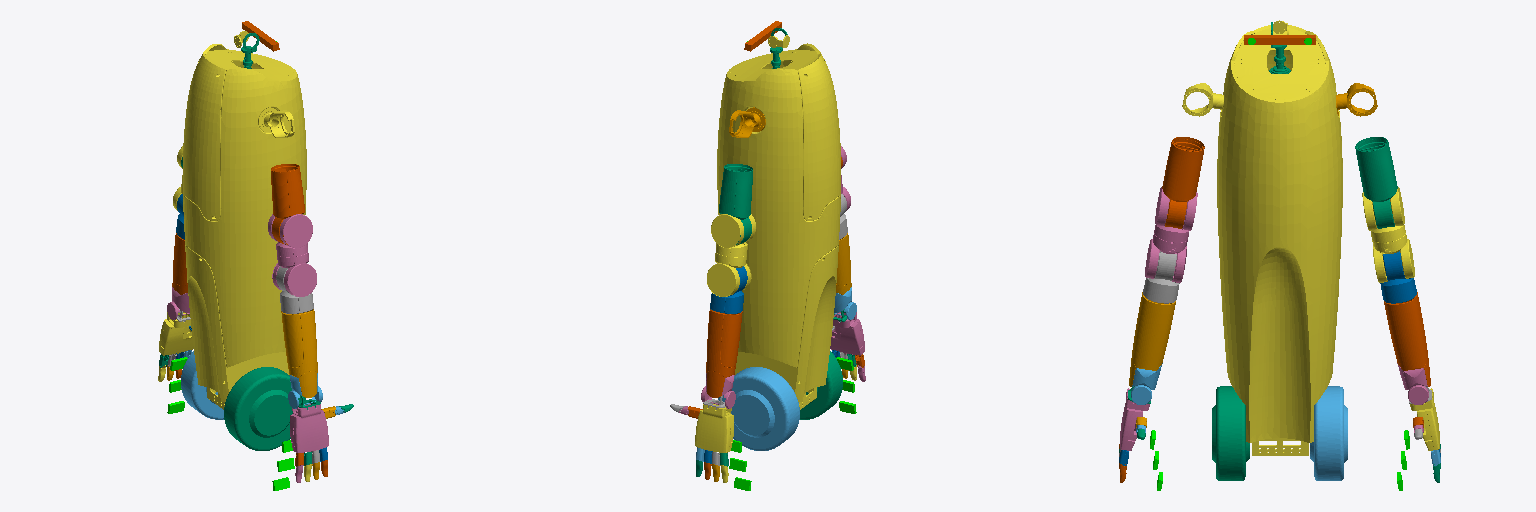
--- Render facts (derived) ---
Views: 3 orthographic renders of the robot side by side, from view 1: azimuth 30°, elevation 25°; view 2: azimuth 150°, elevation 25°; view 3: azimuth 270°, elevation 25°.
Model flintrobot with 76 links and 75 joints (44 revolute, 2 prismatic, 29 fixed), rooted at base_link, posed all joints at 0.
Visible links, largest first — view 1: body_link, wheel_link2, right_elbow, right_forearm, right_posterior_arm, right_hand, wheel_link, left_hand, right_forearm_root, right_shoulder, left_forearm; view 2: body_link, wheel_link, left_elbow, left_forearm, left_posterior_arm, left_hand, wheel_link2, right_hand, left_forearm_root, left_shoulder, right_forearm; view 3: body_link, wheel_link2, wheel_link, right_posterior_arm, left_posterior_arm, right_forearm, left_forearm, right_elbow, left_elbow, right_forearm_root, left_forearm_root, right_hand (+6 smaller).
Boxes of the visible links, left/top/right/bottom form: body_link: left=183, top=44, right=306, bottom=409; wheel_link2: left=224, top=367, right=305, bottom=450; right_elbow: left=268, top=214, right=316, bottom=296; right_forearm: left=281, top=309, right=317, bottom=397; right_posterior_arm: left=271, top=164, right=304, bottom=244; right_hand: left=290, top=404, right=328, bottom=452; wheel_link: left=181, top=351, right=223, bottom=419; left_hand: left=159, top=312, right=193, bottom=355; right_forearm_root: left=276, top=266, right=313, bottom=313; right_shoulder: left=258, top=107, right=294, bottom=137; left_forearm: left=172, top=233, right=187, bottom=294; body_link: left=717, top=43, right=840, bottom=409; wheel_link: left=718, top=367, right=799, bottom=450; left_elbow: left=707, top=214, right=755, bottom=296; left_forearm: left=706, top=309, right=742, bottom=397; left_posterior_arm: left=719, top=164, right=752, bottom=244; left_hand: left=695, top=404, right=733, bottom=452; wheel_link2: left=800, top=351, right=842, bottom=419; right_hand: left=830, top=312, right=864, bottom=355; left_forearm_root: left=710, top=266, right=747, bottom=313; left_shoulder: left=729, top=107, right=765, bottom=137; right_forearm: left=836, top=233, right=851, bottom=294; body_link: left=1217, top=25, right=1342, bottom=455; wheel_link2: left=1212, top=386, right=1249, bottom=480; wheel_link: left=1310, top=386, right=1347, bottom=480; right_posterior_arm: left=1162, top=137, right=1204, bottom=228; left_posterior_arm: left=1355, top=137, right=1397, bottom=228; right_forearm: left=1129, top=292, right=1175, bottom=386; left_forearm: left=1384, top=292, right=1430, bottom=386; right_elbow: left=1145, top=187, right=1197, bottom=282; left_elbow: left=1362, top=187, right=1414, bottom=282; right_forearm_root: left=1143, top=251, right=1179, bottom=303; left_forearm_root: left=1380, top=251, right=1416, bottom=303; right_hand: left=1120, top=388, right=1149, bottom=450.
Size in the robot's own frame: 0.3688 by 0.8082 by 1.31 metres.
46 mesh visuals loaded from 21 distinct referenced files (19 binary STL); not drawn: 3 (reference not matched to a file when rendering).

robot.urdf — flintrobot:
<?xml version="1.0"?>
<robot name="flintrobot"> 
  <link name="base_link">
    <collision>
      <geometry>
        <cylinder length="0.34" radius="0.12"/>
      </geometry>
      <origin rpy="1.57075 0 0" xyz="0 0 0.12"/>
    </collision>
  </link>
  
  <link name="wheel_link">
    <visual>
      <geometry>
        <mesh filename="package://flintrobot_description/meshes/flint_wheel1.stl"/>
      </geometry>
    </visual>
  </link>

  <joint name="wheel1_to_base" type="fixed">
    <axis xyz="0 0 0"/>
    <origin xyz="0 0.171517 0.121921"/>
    <parent link="base_link"/>
    <child link="wheel_link"/>
  </joint>

  <link name="wheel_link2">
    <visual>
      <geometry>
        <mesh filename="package://flintrobot_description/meshes/flint_wheel1.stl"/>
      </geometry>
    </visual>
  </link>

  <joint name="wheel2_to_base" type="fixed">
    <axis xyz="0 0 0"/>
    <origin xyz="0 -0.171517 0.121921" rpy="0 0 3.1416"/>
    <parent link="base_link"/>
    <child link="wheel_link2"/>
  </joint>

  <link name="body_link">
    <visual>
      <geometry>
        <mesh filename="package://flintrobot_description/meshes/flint_body.stl"/>
      </geometry>
    </visual>
    <collision>
      <geometry>
        <cylinder length="0.9" radius="0.15"/>
      </geometry>
      <origin rpy="0 0 0" xyz="0 0 0.5352"/>
    </collision>
  </link>

  <joint name="robot_roll_angle" type="fixed">
    <axis xyz="0 1 0"/>
    <origin xyz="0 0 0.16"/>
    <parent link="base_link"/>
    <child link="body_link"/>
    <limit effort="1000" lower="-0.2618" upper="0.2618" velocity="1.0"/>
  </joint>

  <link name="imu_link">
    <visual>
      <geometry>
        <box size="0.03 0.02 0.002"/>
      </geometry>
      <material name="green">
        <color rgba="0.0 1.0 0.0 1.0"/>
      </material>
    </visual>
  </link>

  <joint name="imu_to_body" type="fixed">
    <axis xyz="0 0 1"/>
    <origin xyz="0 0 0" rpy="0 0 1.5708"/>
    <parent link="body_link"/>
    <child link="imu_link"/>
  </joint>

  <link name="rslidar">
    <visual>
      <geometry>
        <box size="0.02 0.03 0.05"/>
      </geometry>
      <material name="green">
        <color rgba="0.0 1.0 0.0 1.0"/>
      </material>
      <origin rpy="0 0 0" xyz="0 0 0"/>
    </visual>
  </link>

  <joint name="laser_to_body" type="fixed">
    <origin xyz="0.15475 0 0.77"/>
    <parent link="body_link"/>
    <child link="rslidar"/>
  </joint>

  <link name="head_base_root"/>

  <joint name="head_base_root_joint" type="fixed">
    <origin rpy="0 0 0" xyz="0.01385 0 0.9417"/>
    <parent link="body_link"/>
    <child link="head_base_root"/>
  </joint>

  <link name="head_base_raise_joint_x">
    <inertial>
      <mass value="1.0" />
      <inertia ixx="0.5" ixy="0.0" ixz="0.0" iyy="0.5" iyz="0.0" izz="0.5" />
    </inertial>
  </link>

  <joint name="head_base_raise_joint_x" type="prismatic">
    <origin rpy="0 0 0" xyz="0 0 0"/>
    <axis xyz="1 0 0"/>
    <limit effort="1000" lower="0.0" upper="0.07044" velocity="0.1"/>
    <parent link="head_base_root"/>
    <child link="head_base_raise_joint_x"/>
  </joint>

  <link name="head_base_raise_joint_z">
    <inertial>
      <mass value="1.0" />
      <inertia ixx="0.5" ixy="0.0" ixz="0.0" iyy="0.5" iyz="0.0" izz="0.5" />
    </inertial>
  </link>

  <joint name="head_base_raise_joint_z" type="prismatic">
    <origin rpy="0 0 0" xyz="0 0 0"/>
    <axis xyz="0 0 1"/>
    <limit effort="1000" lower="0.0" upper="0.03792" velocity="0.1"/>
    <parent link="head_base_raise_joint_x"/>
    <child link="head_base_raise_joint_z"/>
  </joint>

  <link name="head_base_raise_joint_pitch">
    <visual>
      <geometry>
        <mesh filename="package://flintrobot_description/meshes/flint_neck0.stl"/>
      </geometry>
    </visual>
    <inertial>
      <mass value="1.0" />
      <inertia ixx="0.5" ixy="0.0" ixz="0.0" iyy="0.5" iyz="0.0" izz="0.5" />
    </inertial>
  </link>

  <joint name="head_base_raise_joint_pitch" type="revolute">
    <origin rpy="0 0 0" xyz="0 0 0"/>
    <axis xyz="0 1 0"/>
    <limit effort="1000" lower="0.0" upper="0.449946" velocity="0.1"/>
    <parent link="head_base_raise_joint_z"/>
    <child link="head_base_raise_joint_pitch"/>
  </joint>

  <link name="head_joint_1">
    <visual>
      <geometry>
        <mesh filename="package://flintrobot_description/meshes/flint_neck1.stl"/>
      </geometry>
    </visual>
    <inertial>
      <mass value="1.0" />
      <inertia ixx="0.5" ixy="0.0" ixz="0.0" iyy="0.5" iyz="0.0" izz="0.5" />
    </inertial>
  </link>

  <joint name="head_joint_1" type="revolute">
    <origin rpy="0 0 0" xyz="0 0 0.0553"/>
    <axis xyz="0 0 1"/>
    <limit effort="1000" lower="-0.7854" upper="0.7854" velocity="0.1"/>
    <parent link="head_base_raise_joint_pitch"/>
    <child link="head_joint_1"/>
  </joint>

  <link name="head_joint_2">
    <visual>
      <geometry>
        <mesh filename="package://flintrobot_description/meshes/flint_neck2.stl"/>
      </geometry>
    </visual>
    <inertial>
      <mass value="1.0" />
      <inertia ixx="0.5" ixy="0.0" ixz="0.0" iyy="0.5" iyz="0.0" izz="0.5" />
    </inertial>
  </link>

  <joint name="head_joint_2" type="revolute">
    <origin rpy="0 0 0" xyz="-0.0016 0.018 0.0816"/>
    <axis xyz="0 1 0"/>
    <limit effort="1000" lower="-0.3491" upper="0.7854" velocity="0.1"/>
    <parent link="head_joint_1"/>
    <child link="head_joint_2"/>
  </joint>

  <link name="head">
    <visual>
      <geometry>
        <mesh filename="package://flintrobot_description/meshes/flint_head.stl"/>
      </geometry>
    </visual>
    <inertial>
      <mass value="1.0" />
      <inertia ixx="0.5" ixy="0.0" ixz="0.0" iyy="0.5" iyz="0.0" izz="0.5" />
    </inertial>
  </link>

  <joint name="head_joint_3" type="revolute">
    <origin rpy="0 0 0" xyz="-0.06887 -0.020278 0"/>
    <axis xyz="1 0 0"/>
    <limit effort="1000" lower="-0.3491" upper="0.3491" velocity="0.1"/>
    <parent link="head_joint_2"/>
    <child link="head"/>
  </joint>

  <joint name="head_joint_3b" type="fixed">
    <origin rpy="0 -0.1118756 0" xyz="0.11332 0.002304 0"/>
    <parent link="head"/>
    <child link="camera_base"/>
  </joint>

  <link name="camera_base">
    <visual>
      <geometry>
        <box size="0.02 0.18 0.02"/>
      </geometry>
      <origin rpy="0 0 0" xyz="0 0 0"/>
    </visual>
  </link>

  <link name="left_eye">
    <visual>
      <geometry>
        <cylinder length="0.02" radius="0.01"/>
      </geometry>
      <material name="green">
        <color rgba="0.0 1.0 0.0 1.0"/>
      </material>
      <origin rpy="0 1.5708 0" xyz="0.002 0.0 0.0"/>
    </visual>
  </link>

  <joint name="head_to_left_eye" type="fixed">
    <origin rpy="0 0 0" xyz="0.0 0.07103 0.0"/>
    <parent link="camera_base"/>
    <child link="left_eye"/>
  </joint>

  <link name="left_camera_optical_frame"/>
  <joint name="left_camera_optical_joint" type="fixed">
    <origin rpy="-1.5707963267948966 0.0 -1.5707963267948966" xyz="0 0 0"/>
    <parent link="left_eye"/>
    <child link="left_camera_optical_frame"/>
  </joint>

  <link name="right_eye">
    <visual>
      <geometry>
        <cylinder length="0.02" radius="0.01"/>
      </geometry>
      <material name="green">
        <color rgba="0.0 1.0 0.0 1.0"/>
      </material>
      <origin rpy="0 1.5708 0" xyz="0.002 0.0 0.0"/>
    </visual>
  </link>

  <joint name="head_to_right_eye" type="fixed">
    <origin rpy="0 0 0" xyz="0.0 -0.07103 0.0"/>
    <parent link="camera_base"/>
    <child link="right_eye"/>
  </joint>

  <link name="right_camera_optical_frame"/>
  <joint name="right_camera_optical_joint" type="fixed">
    <origin rpy="-1.5707963267948966 0.0 -1.5707963267948966" xyz="0 0 0"/>
    <parent link="right_eye"/>
    <child link="right_camera_optical_frame"/>
  </joint>

  <link name="right_shoulder_root"/>

  <joint name="right_shoulder_fixed_angle" type="fixed">
    <origin rpy="-0.17453 0 0" xyz="0.005 -0.13909 0.8815"/>
    <parent link="body_link"/>
    <child link="right_shoulder_root"/>
  </joint>

  <link name="right_shoulder">
    <visual>
      <geometry>
        <mesh filename="package://flintrobot_description/meshes/flint_joint1.stl"/>
      </geometry>
    </visual>
    <collision>
      <geometry>
        <cylinder length="0.076" radius="0.035"/>
      </geometry>
      <origin rpy="1.57075 0 0" xyz="0 -0.065 0"/>
    </collision>
  </link>

  <joint name="joint0" type="revolute">
    <axis xyz="0 1 0"/>
    <origin xyz="0 -0.0 0"/>
    <parent link="right_shoulder_root"/>
    <child link="right_shoulder"/>
    <limit effort="1000" lower="-3.1415926" upper="3.1415926" velocity="1.0"/>
  </joint>

  <link name="right_posterior_arm_root">
    <visual>
      <geometry>
        <mesh filename="package://flintrobot_description/meshes/flint_joint2.stl"/>
      </geometry>
    </visual>
    <inertial>
      <mass value="1.0" />
      <inertia ixx="0.5" ixy="0.0" ixz="0.0" iyy="0.5" iyz="0.0" izz="0.5" />
    </inertial>
  </link>

  <joint name="joint1" type="revolute">
    <axis xyz="1 0 0"/>
    <origin xyz="0.000294 -0.069 0"/>
    <parent link="right_shoulder"/>
    <child link="right_posterior_arm_root"/>
    <limit effort="1000" lower="-1.5708" upper="0.1745" velocity="1.0"/>
  </joint>

  <link name="right_posterior_arm">
    <visual>
      <geometry>
        <mesh filename="package://flintrobot_description/meshes/flint_joint3.stl"/>
      </geometry>
    </visual>
    <collision>
      <geometry>
        <cylinder length="0.23" radius="0.035"/>
      </geometry>
      <origin rpy="0 0 0" xyz="0 0 -0.06"/>
    </collision>
  </link>

  <joint name="joint2" type="revolute">
    <axis xyz="0 0 1"/>
    <origin xyz="-0.0001 0 -0.11197"/>
    <parent link="right_posterior_arm_root"/>
    <child link="right_posterior_arm"/>
    <limit effort="1000" lower="-3.1415926" upper="3.1415926" velocity="1.0"/>
  </joint>

  <link name="right_elbow">
    <visual>
      <geometry>
        <mesh filename="package://flintrobot_description/meshes/flint_joint4.stl"/>
      </geometry>
    </visual>
    <collision>
      <geometry>
        <box size="0.07 0.07 0.147"/>
      </geometry>
      <origin rpy="0 0 0" xyz="0 -0.03 -0.0735"/>
    </collision>
  </link>

  <joint name="joint3" type="revolute">
    <axis xyz="0 1 0"/>
    <origin xyz="0 0.02901 -0.198"/>
    <parent link="right_posterior_arm"/>
    <child link="right_elbow"/>
    <limit effort="1000" lower="-1.5708" upper="0.0" velocity="1.0"/>
  </joint>

  <link name="right_forearm_root">
    <visual>
      <geometry>
        <mesh filename="package://flintrobot_description/meshes/flint_joint5.stl"/>
      </geometry>
    </visual>
    <inertial>
      <mass value="1.0" />
      <inertia ixx="0.5" ixy="0.0" ixz="0.0" iyy="0.5" iyz="0.0" izz="0.5" />
    </inertial>
  </link>

  <joint name="joint4" type="revolute">
    <axis xyz="0 1 0"/>
    <origin xyz="0 -0.0555 -0.14721"/>
    <parent link="right_elbow"/>
    <child link="right_forearm_root"/>
    <limit effort="1000" lower="-1.5708" upper="0.0" velocity="1.0"/>
  </joint>

  <link name="right_forearm">
    <visual>
      <geometry>
        <mesh filename="package://flintrobot_description/meshes/flint_joint6.stl"/>
      </geometry>
    </visual>
    <collision>
      <geometry>
        <cylinder length="0.236" radius="0.035"/>
      </geometry>
      <origin rpy="0 0 0" xyz="0 0 -0.033"/>
    </collision>
  </link>

  <joint name="joint5" type="revolute">
    <axis xyz="0 0 1"/>
    <origin xyz="0 0.02768 -0.112"/>
    <parent link="right_forearm_root"/>
    <child link="right_forearm"/>
    <limit effort="1000" lower="-3.1415926" upper="3.1415926" velocity="1.0"/>
  </joint>

  <link name="right_forearm_b">
    <visual>
      <geometry>
        <mesh filename="package://flintrobot_description/meshes/flint_joint7.stl"/>
      </geometry>
    </visual>
    <collision>
      <geometry>
        <box size="0.07 0.07 0.05"/>
      </geometry>
      <origin rpy="0 0 0" xyz="0 0 0.005"/>
    </collision>
  </link>

  <joint name="joint6" type="revolute">
    <axis xyz="0 1 0"/>
    <origin xyz="0 0 -0.20252"/>
    <parent link="right_forearm"/>
    <child link="right_forearm_b"/>
    <limit effort="1000" lower="-0.5236" upper="0.5236" velocity="1.0"/>
  </joint>

  <link name="right_wrist">
    <visual>
      <geometry>
        <mesh filename="package://flintrobot_description/meshes/flint_joint8.stl"/>
      </geometry>
    </visual>
    <collision>
      <geometry>
        <box size="0.09 0.06 0.023"/>
      </geometry>
      <origin rpy="0 0 0" xyz="0.014 0 -0.0"/>
    </collision>
  </link>

  <joint name="joint7" type="revolute">
    <axis xyz="1 0 0"/>
    <origin xyz="-0.014 0 -0.04456"/>
    <parent link="right_forearm_b"/>
    <child link="right_wrist"/>
    <limit effort="1000" lower="-0.7854" upper="0.7854" velocity="1.0"/>
  </joint>

  <link name="right_grasp_center">
    <visual>
      <geometry>
        <box size="0.03 0.01 0.05"/>
      </geometry>
      <material name="green">
        <color rgba="0.0 1.0 0.0 1.0"/>
      </material>
      <origin rpy="0 0 0" xyz="0 0 0"/>
    </visual>
  </link>

  <joint name="right_wrists_to_grasp_center" type="fixed">
    <parent link="right_wrist"/>
    <child link="right_grasp_center"/>
    <origin rpy="0 1.5708 0" xyz="-0.02 0.055 -0.15"/>
  </joint>

  <link name="right_grasp_prepare_2">
    <visual>
      <geometry>
        <box size="0.03 0.01 0.05"/>
      </geometry>
      <material name="green">
        <color rgba="0.0 1.0 0.0 1.0"/>
      </material>
      <origin rpy="0 0 0" xyz="0 0 0"/>
    </visual>
  </link>

  <joint name="right_grasp_center_to_grasp_prepare_2" type="fixed">
    <parent link="right_grasp_center"/>
    <child link="right_grasp_prepare_2"/>
    <origin rpy="0 0 0" xyz="0.06 0.02 -0.01"/>
  </joint>

  <link name="right_grasp_prepare">
    <visual>
      <geometry>
        <box size="0.03 0.01 0.05"/>
      </geometry>
      <material name="green">
        <color rgba="0.0 1.0 0.0 1.0"/>
      </material>
      <origin rpy="0 0 0" xyz="0 0 0"/>
    </visual>
  </link>

  <joint name="right_grasp_center_to_grasp_prepare" type="fixed">
    <parent link="right_grasp_center"/>
    <child link="right_grasp_prepare"/>
    <origin rpy="0 0 0" xyz="0.12 0.04 -0.02"/>
  </joint>

  <link name="right_hand">
    <visual>
      <geometry>
        <mesh filename="package://flintrobot_description/meshes/flint_good_hand.stl"/>
      </geometry>
    </visual>
    <collision>
      <geometry>
        <box size="0.1 0.04 0.1"/>
      </geometry>
      <origin rpy="0 0 0" xyz="0 0 0.0"/>
    </collision>
  </link>

  <joint name="wrist_to_hand" type="fixed">
    <parent link="right_wrist"/>
    <child link="right_hand"/>
    <origin rpy="0 0 0" xyz="0.010324 -0.01302 -0.09651"/>
  </joint>

  <link name="right_hand_thumb_0">
    <visual>
      <geometry>
        <mesh filename="package://flintrobot_description/meshes/flint_hand_thumb_joint0.stl"/>
      </geometry>
    </visual>
    <inertial>
      <mass value="0.5" />
      <inertia ixx="0.5" ixy="0.0" ixz="0.0" iyy="0.5" iyz="0.0" izz="0.5" />
    </inertial>
  </link>

  <joint name="right_thumb_joint1" type="revolute">
    <parent link="right_wrist"/>
    <child link="right_hand_thumb_0"/>
    <axis xyz="0 0 1"/>
    <origin xyz="0.0408 0.01039 -0.0694"/>
    <limit effort="1000" lower="0" upper="2.0944" velocity="1.0"/>
  </joint>

  <link name="right_hand_thumb_1">
    <visual>
      <geometry>
        <mesh filename="package://flintrobot_description/meshes/flint_hand_thumb_joint1.stl"/>
      </geometry>
    </visual>
    <collision>
      <geometry>
        <box size="0.03 0.025 0.025"/>
      </geometry>
      <origin rpy="0 -0.0 0" xyz="0.03 0.013 -0.0"/>
    </collision>
    <inertial>
      <mass value="0.5" />
      <inertia ixx="0.5" ixy="0.0" ixz="0.0" iyy="0.5" iyz="0.0" izz="0.5" />
    </inertial>
  </link>

  <joint name="right_thumb_joint2" type="revolute">
    <parent link="right_hand_thumb_0"/>
    <child link="right_hand_thumb_1"/>
    <axis xyz="0 1 0"/>
    <origin xyz="0.010277 -0.01169 0.00121"/>
    <limit effort="1000" lower="0" upper="1.5708" velocity="1.0"/>
  </joint>

  <link name="right_hand_thumb_2">
    <visual>
      <geometry>
        <mesh filename="package://flintrobot_description/meshes/flint_hand_thumb_joint2.stl"/>
      </geometry>
    </visual>
    <collision>
      <geometry>
        <box size="0.02 0.02 0.02"/>
      </geometry>
      <origin rpy="0 0 0" xyz="0.008 0.01 0.003"/>
    </collision>
    <inertial>
      <mass value="0.5" />
      <inertia ixx="0.5" ixy="0.0" ixz="0.0" iyy="0.5" iyz="0.0" izz="0.5" />
    </inertial>
  </link>

  <joint name="right_thumb_joint3" type="revolute">
    <parent link="right_hand_thumb_1"/>
    <child link="right_hand_thumb_2"/>
    <axis xyz="0 1 0"/>
    <origin xyz="0.061119 0.002 -0.00337"/>
    <limit effort="1000" lower="0" upper="1.5708" velocity="1.0"/>
  </joint>

  <link name="right_hand_thumb_3">
    <visual>
      <geometry>
        <mesh filename="package://flintrobot_description/meshes/flint_hand_thumb_joint3.stl"/>
      </geometry>
    </visual>
    <collision>
      <geometry>
        <box size="0.02 0.02 0.01"/>
      </geometry>
      <origin rpy="0 0 0" xyz="0.025 0 0.008"/>
    </collision>
  </link>

  <joint name="right_thumb_joint4" type="revolute">
    <parent link="right_hand_thumb_2"/>
    <child link="right_hand_thumb_3"/>
    <axis xyz="0 1 0"/>
    <origin xyz="0.02197 0.01078 0.00108"/>
    <limit effort="1000" lower="0" upper="0.7854" velocity="1.0"/>
  </joint>

  <link name="right_finger1_root">
  </link>

  <joint name="wrists_to_finger1" type="fixed">
    <parent link="right_wrist"/>
    <child link="right_finger1_root"/>
    <origin rpy="0 -0.05236 0" xyz="0.047592 -0.01235 -0.164243"/>
  </joint>

  <link name="right_finger1_joint1">
    <visual>
      <geometry>
        <mesh filename="package://flintrobot_description/meshes/flint_hand_finger_joint0.stl"/>
      </geometry>
    </visual>
    <collision>
      <geometry>
        <box size="0.02 0.02 0.035"/>
      </geometry>
      <origin rpy="0 0 0" xyz="0 0 -0.012"/>
    </collision>
  </link>

  <joint name="right_finger1_joint1" type="revolute">
    <axis xyz="1 0 0"/>
    <parent link="right_finger1_root"/>
    <child link="right_finger1_joint1"/>
    <origin rpy="0 0 0" xyz="0 0 0"/>
    <limit effort="1000" lower="0" upper="1.5708" velocity="1.0"/>
  </joint>

  <link name="right_finger1_joint2">
    <visual>
      <geometry>
        <mesh filename="package://flintrobot_description/meshes/flint_hand_finger_joint1.stl"/>
      </geometry>
    </visual>
    <collision>
      <geometry>
        <box size="0.02 0.02 0.035"/>
      </geometry>
      <origin rpy="0 0 0" xyz="0 0 -0.032"/>
    </collision>
  </link>

  <joint name="right_finger1_joint2" type="revolute">
    <axis xyz="1 0 0"/>
    <parent link="right_finger1_joint1"/>
    <child link="right_finger1_joint2"/>
    <origin rpy="0 0 0" xyz="0.000017 0.0052 -0.030544"/>
    <limit effort="1000" lower="0" upper="1.5708" velocity="1.0"/>
  </joint>

  <link name="right_finger2_root">
  </link>

  <joint name="wrists_to_finger2" type="fixed">
    <parent link="right_wrist"/>
    <child link="right_finger2_root"/>
    <origin rpy="0 0 0" xyz="0.021945 -0.01231 -0.165475"/>
  </joint>

  <link name="right_finger2_joint1">
    <visual>
      <geometry>
        <mesh filename="package://flintrobot_description/meshes/flint_hand_finger_joint0.stl"/>
      </geometry>
    </visual>
    <collision>
      <geometry>
        <box size="0.02 0.02 0.035"/>
      </geometry>
      <origin rpy="0 0 0" xyz="0 0 -0.012"/>
    </collision>
  </link>

  <joint name="right_finger2_joint1" type="revolute">
    <axis xyz="1 0 0"/>
    <parent link="right_finger2_root"/>
    <child link="right_finger2_joint1"/>
    <origin rpy="0 0 0" xyz="0 0 0"/>
    <limit effort="1000" lower="0" upper="1.5708" velocity="1.0"/>
  </joint>

  <link name="right_finger2_joint2">
    <visual>
      <geometry>
        <mesh filename="package://flintrobot_description/meshes/flint_hand_finger_joint1.stl"/>
      </geometry>
    </visual>
    <collision>
      <geometry>
        <box size="0.02 0.02 0.035"/>
      </geometry>
      <origin rpy="0 0 0" xyz="0 0 -0.032"/>
    </collision>
  </link>

  <joint name="right_finger2_joint2" type="revolute">
    <axis xyz="1 0 0"/>
    <parent link="right_finger2_joint1"/>
    <child link="right_finger2_joint2"/>
    <origin rpy="0 0 0" xyz="0.000017 0.0052 -0.030544"/>
    <limit effort="1000" lower="0" upper="1.5708" velocity="1.0"/>
  </joint>

  <link name="right_finger3_root">
  </link>

  <joint name="wrists_to_finger3" type="fixed">
    <parent link="right_wrist"/>
    <child link="right_finger3_root"/>
    <origin rpy="0 0.05236 0" xyz="-0.003263 -0.01231 -0.165415"/>
  </joint>

  <link name="right_finger3_joint1">
    <visual>
      <geometry>
        <mesh filename="package://flintrobot_description/meshes/flint_hand_finger_joint0.stl"/>
      </geometry>
    </visual>
    <collision>
      <geometry>
        <box size="0.02 0.02 0.035"/>
      </geometry>
      <origin rpy="0 0 0" xyz="0 0 -0.012"/>
    </collision>
  </link>

  <joint name="right_finger3_joint1" type="revolute">
    <axis xyz="1 0 0"/>
    <parent link="right_finger3_root"/>
    <child link="right_finger3_joint1"/>
    <origin rpy="0 0 0" xyz="0 0 0"/>
    <limit effort="1000" lower="0" upper="1.5708" velocity="1.0"/>
  </joint>

  <link name="right_finger3_joint2">
    <visual>
      <geometry>
        <mesh filename="package://flintrobot_description/meshes/flint_hand_finger_joint1.stl"/>
      </geometry>
    </visual>
    <collision>
      <geometry>
        <box size="0.02 0.02 0.035"/>
      </geometry>
      <origin rpy="0 0 0" xyz="0 0 -0.032"/>
    </collision>
  </link>

  <joint name="right_finger3_joint2" type="revolute">
    <axis xyz="1 0 0"/>
    <parent link="right_finger3_joint1"/>
    <child link="right_finger3_joint2"/>
    <origin rpy="0 0 0" xyz="0.000017 0.0052 -0.030544"/>
    <limit effort="1000" lower="0" upper="1.5708" velocity="1.0"/>
  </joint>

  <link name="right_finger4_root">
  </link>

  <joint name="wrists_to_finger4" type="fixed">
    <parent link="right_wrist"/>
    <child link="right_finger4_root"/>
    <origin rpy="0 0.10472 0" xyz="-0.028492 -0.01231 -0.162315"/>
  </joint>

  <link name="right_finger4_joint1">
    <visual>
      <geometry>
        <mesh filename="package://flintrobot_description/meshes/flint_hand_finger_joint0.stl"/>
      </geometry>
    </visual>
    <collision>
      <geometry>
        <box size="0.02 0.02 0.035"/>
      </geometry>
      <origin rpy="0 0 0" xyz="0 0 -0.012"/>
    </collision>
  </link>

  <joint name="right_finger4_joint1" type="revolute">
    <axis xyz="1 0 0"/>
    <parent link="right_finger4_root"/>
    <child link="right_finger4_joint1"/>
    <origin rpy="0 0 0" xyz="0 0 0"/>
    <limit effort="1000" lower="0" upper="1.5708" velocity="1.0"/>
  </joint>

  <link name="right_finger4_joint2">
    <visual>
      <geometry>
        <mesh filename="package://flintrobot_description/meshes/flint_hand_finger_joint1.stl"/>
      </geometry>
    </visual>
    <collision>
      <geometry>
        <box size="0.02 0.02 0.035"/>
      </geometry>
      <origin rpy="0 0 0" xyz="0 0 -0.032"/>
    </collision>
  </link>

  <joint name="right_finger4_joint2" type="revolute">
    <axis xyz="1 0 0"/>
    <parent link="right_finger4_joint1"/>
    <child link="right_finger4_joint2"/>
    <origin rpy="0 0 0" xyz="0.000017 0.0052 -0.030544"/>
    <limit effort="1000" lower="0" upper="1.5708" velocity="1.0"/>
  </joint>

  <link name="left_shoulder_root"/>

  <joint name="left_shoulder_fixed_angle" type="fixed">
    <origin rpy="0.17453 0 0" xyz="0.005 0.13909 0.8815"/>
    <parent link="body_link"/>
    <child link="left_shoulder_root"/>
  </joint>

  <link name="left_shoulder">
    <visual>
      <geometry>
        <mesh filename="package://flintrobot_description/meshes/flint_joint1.stl" scale="1 -1 1"/>
      </geometry>
    </visual>
    <collision>
      <geometry>
        <cylinder length="0.076" radius="0.035"/>
      </geometry>
      <origin rpy="1.57075 0 0" xyz="0 0.065 0"/>
    </collision>
  </link>

  <joint name="joint0b" type="revolute">
    <axis xyz="0 1 0"/>
    <origin xyz="0 0 0"/>
    <parent link="left_shoulder_root"/>
    <child link="left_shoulder"/>
    <limit effort="1000" lower="-3.1415926" upper="3.1415926" velocity="1.0"/>
  </joint>

  <link name="left_posterior_arm_root">
    <visual>
      <geometry>
        <mesh filename="package://flintrobot_description/meshes/flint_joint2.stl" scale="1 -1 1"/>
      </geometry>
    </visual>
    <inertial>
      <mass value="1.0" />
      <inertia ixx="0.5" ixy="0.0" ixz="0.0" iyy="0.5" iyz="0.0" izz="0.5" />
    </inertial>
  </link>

  <joint name="joint1b" type="revolute">
    <axis xyz="1 0 0"/>
    <origin xyz="0.000294 0.069 0"/>
    <parent link="left_shoulder"/>
    <child link="left_posterior_arm_root"/>
    <limit effort="1000" lower="-0.1745" upper="1.5708" velocity="1.0"/>
  </joint>

  <link name="left_posterior_arm">
    <visual>
      <geometry>
        <mesh filename="package://flintrobot_description/meshes/flint_joint3.stl" scale="1 -1 1"/>
      </geometry>
    </visual>
    <collision>
      <geometry>
        <cylinder length="0.23" radius="0.035"/>
      </geometry>
      <origin rpy="0 0 0" xyz="0 0 -0.06"/>
    </collision>
  </link>

  <joint name="joint2b" type="revolute">
    <axis xyz="0 0 1"/>
    <origin xyz="-0.0001 0 -0.11197"/>
    <parent link="left_posterior_arm_root"/>
    <child link="left_posterior_arm"/>
    <limit effort="1000" lower="-3.1415926" upper="3.1415926" velocity="1.0"/>
  </joint>

  <link name="left_elbow">
    <visual>
      <geometry>
        <mesh filename="package://flintrobot_description/meshes/flint_joint4.stl" scale="1 -1 1"/>
      </geometry>
    </visual>
    <collision>
      <geometry>
        <box size="0.07 0.07 0.147"/>
      </geometry>
      <origin rpy="0 0 0" xyz="0 0.03 -0.0735"/>
    </collision>
  </link>

  <joint name="joint3b" type="revolute">
    <axis xyz="0 1 0"/>
    <origin xyz="0 -0.02901 -0.198"/>
    <parent link="left_posterior_arm"/>
    <child link="left_elbow"/>
    <limit effort="1000" lower="-1.5708" upper="0.0" velocity="1.0"/>
  </joint>

  <link name="left_forearm_root">
    <visual>
      <geometry>
        <mesh filename="package://flintrobot_description/meshes/flint_joint5.stl" scale="1 -1 1"/>
      </geometry>
    </visual>
    <inertial>
      <mass value="1.0" />
      <inertia ixx="0.5" ixy="0.0" ixz="0.0" iyy="0.5" iyz="0.0" izz="0.5" />
    </inertial>
  </link>

  <joint name="joint4b" type="revolute">
    <axis xyz="0 1 0"/>
    <origin xyz="0 0.0555 -0.14721"/>
    <parent link="left_elbow"/>
    <child link="left_forearm_root"/>
    <limit effort="1000" lower="-1.5708" upper="0.0" velocity="1.0"/>
  </joint>

  <link name="left_forearm">
    <visual>
      <geometry>
        <mesh filename="package://flintrobot_description/meshes/flint_joint6.stl" scale="1 -1 1"/>
      </geometry>
    </visual>
    <collision>
      <geometry>
        <cylinder length="0.236" radius="0.035"/>
      </geometry>
      <origin rpy="0 0 0" xyz="0 0 -0.033"/>
    </collision>
  </link>

  <joint name="joint5b" type="revolute">
    <axis xyz="0 0 1"/>
    <origin xyz="0 -0.02768 -0.112"/>
    <parent link="left_forearm_root"/>
    <child link="left_forearm"/>
    <limit effort="1000" lower="-3.1415926" upper="3.1415926" velocity="1.0"/>
  </joint>

  <link name="left_forearm_b">
    <visual>
      <geometry>
        <mesh filename="package://flintrobot_description/meshes/flint_joint7.stl" scale="1 -1 1"/>
      </geometry>
    </visual>
    <collision>
      <geometry>
        <box size="0.07 0.07 0.05"/>
      </geometry>
      <origin rpy="0 0 0" xyz="0 0 0.005"/>
    </collision>
  </link>

  <joint name="joint6b" type="revolute">
    <axis xyz="0 1 0"/>
    <origin xyz="0 0 -0.20252"/>
    <parent link="left_forearm"/>
    <child link="left_forearm_b"/>
    <limit effort="1000" lower="-0.5236" upper="0.5236" velocity="1.0"/>
  </joint>

  <link name="left_wrist">
    <visual>
      <geometry>
        <mesh filename="package://flintrobot_description/meshes/flint_joint8.stl" scale="1 -1 1"/>
      </geometry>
    </visual>
    <collision>
      <geometry>
        <box size="0.09 0.06 0.023"/>
      </geometry>
      <origin rpy="0 0 0" xyz="0.014 0 -0.0"/>
    </collision>
  </link>

  <joint name="joint7b" type="revolute">
    <axis xyz="1 0 0"/>
    <origin xyz="-0.014 0 -0.04456"/>
    <parent link="left_forearm_b"/>
    <child link="left_wrist"/>
    <limit effort="1000" lower="-0.7854" upper="0.7854" velocity="1.0"/>
  </joint>

  <link name="left_grasp_center">
    <visual>
      <geometry>
        <box size="0.03 0.01 0.05"/>
      </geometry>
      <material name="green">
        <color rgba="0.0 1.0 0.0 1.0"/>
      </material>
      <origin rpy="0 0 0" xyz="0 0 0"/>
    </visual>
  </link>

  <joint name="left_wrists_to_grasp_center" type="fixed">
    <parent link="left_wrist"/>
    <child link="left_grasp_center"/>
    <origin rpy="0 1.5708 0" xyz="-0.02 -0.055 -0.15"/>
  </joint>

  <link name="left_grasp_prepare_2">
    <visual>
      <geometry>
        <box size="0.03 0.01 0.05"/>
      </geometry>
      <material name="green">
        <color rgba="0.0 1.0 0.0 1.0"/>
      </material>
      <origin rpy="0 0 0" xyz="0 0 0"/>
    </visual>
  </link>

  <joint name="left_grasp_center_to_grasp_prepare_2" type="fixed">
    <parent link="left_grasp_center"/>
    <child link="left_grasp_prepare_2"/>
    <origin rpy="0 0 0" xyz="0.06 -0.02 -0.01"/>
  </joint>

  <link name="left_grasp_prepare">
    <visual>
      <geometry>
        <box size="0.03 0.01 0.05"/>
      </geometry>
      <material name="green">
        <color rgba="0.0 1.0 0.0 1.0"/>
      </material>
      <origin rpy="0 0 0" xyz="0 0 0"/>
    </visual>
  </link>

  <joint name="left_grasp_center_to_grasp_prepare" type="fixed">
    <parent link="left_grasp_center"/>
    <child link="left_grasp_prepare"/>
    <origin rpy="0 0 0" xyz="0.12 -0.04 -0.02"/>
  </joint>

  <link name="left_hand">
    <visual>
      <geometry>
        <mesh filename="package://flintrobot_description/meshes/flint_good_hand.stl" scale="1 -1 1"/>
      </geometry>
    </visual>
    <collision>
      <geometry>
        <box size="0.1 0.04 0.1"/>
      </geometry>
      <origin rpy="0 0 0" xyz="0 0 0.0"/>
    </collision>
  </link>

  <joint name="wrist_to_hand2" type="fixed">
    <parent link="left_wrist"/>
    <child link="left_hand"/>
    <origin rpy="0 0 0" xyz="0.010324 0.01302 -0.09651"/>
  </joint>

  <link name="left_hand_thumb_0">
    <visual>
      <geometry>
        <mesh filename="package://flintrobot_description/meshes/flint_hand_thumb_joint0.stl" scale="1 -1 1"/>
      </geometry>
    </visual>
    <inertial>
      <mass value="0.5" />
      <inertia ixx="0.5" ixy="0.0" ixz="0.0" iyy="0.5" iyz="0.0" izz="0.5" />
    </inertial>
  </link>

  <joint name="left_thumb_joint1" type="revolute">
    <parent link="left_wrist"/>
    <child link="left_hand_thumb_0"/>
    <axis xyz="0 0 1"/>
    <origin xyz="0.0408 -0.01039 -0.0694"/>
    <limit effort="1000" lower="-2.0944" upper="0" velocity="1.0"/>
  </joint>

  <link name="left_hand_thumb_1">
    <visual>
      <geometry>
        <mesh filename="package://flintrobot_description/meshes/flint_hand_thumb_joint1.stl" scale="1 -1 1"/>
      </geometry>
    </visual>
    <collision>
      <geometry>
        <box size="0.03 0.025 0.025"/>
      </geometry>
      <origin rpy="0 -0.0 0" xyz="0.03 -0.013 -0.0"/>
    </collision>
    <inertial>
      <mass value="0.5" />
      <inertia ixx="0.5" ixy="0.0" ixz="0.0" iyy="0.5" iyz="0.0" izz="0.5" />
    </inertial>
  </link>

  <joint name="left_thumb_joint2" type="revolute">
    <parent link="left_hand_thumb_0"/>
    <child link="left_hand_thumb_1"/>
    <axis xyz="0 1 0"/>
    <origin xyz="0.010277 0.01169 0.00121"/>
    <limit effort="1000" lower="0" upper="1.5708" velocity="1.0"/>
  </joint>

  <link name="left_hand_thumb_2">
    <visual>
      <geometry>
        <mesh filename="package://flintrobot_description/meshes/flint_hand_thumb_joint2.stl" scale="1 -1 1"/>
      </geometry>
    </visual>
    <collision>
      <geometry>
        <box size="0.02 0.02 0.02"/>
      </geometry>
      <origin rpy="0 0 0" xyz="0.008 -0.01 0.003"/>
    </collision>
  </link>

  <joint name="left_thumb_joint3" type="revolute">
    <parent link="left_hand_thumb_1"/>
    <child link="left_hand_thumb_2"/>
    <axis xyz="0 1 0"/>
    <origin xyz="0.061119 -0.002 -0.00337"/>
    <limit effort="1000" lower="0" upper="1.5708" velocity="1.0"/>
  </joint>

  <link name="left_hand_thumb_3">
    <visual>
      <geometry>
        <mesh filename="package://flintrobot_description/meshes/flint_hand_thumb_joint3.stl" scale="1 -1 1"/>
      </geometry>
    </visual>
    <collision>
      <geometry>
        <box size="0.02 0.02 0.01"/>
      </geometry>
      <origin rpy="0 0 0" xyz="0.025 0 0.008"/>
    </collision>
  </link>

  <joint name="left_thumb_joint4" type="revolute">
    <parent link="left_hand_thumb_2"/>
    <child link="left_hand_thumb_3"/>
    <axis xyz="0 1 0"/>
    <origin xyz="0.02197 -0.01078 0.00108"/>
    <limit effort="1000" lower="0.0" upper="0.7854" velocity="1.0"/>
  </joint>

  <link name="left_finger1_root">
  </link>

  <joint name="left_wrist_to_finger1" type="fixed">
    <parent link="left_wrist"/>
    <child link="left_finger1_root"/>
    <origin rpy="0 -0.05236 0" xyz="0.047592 0.01235 -0.164243"/>
  </joint>

  <link name="left_finger1_joint1">
    <visual>
      <geometry>
        <mesh filename="package://flintrobot_description/meshes/flint_hand_finger_joint0.stl" scale="1 -1 1"/>
      </geometry>
    </visual>
    <collision>
      <geometry>
        <box size="0.02 0.02 0.035"/>
      </geometry>
      <origin rpy="0 0 0" xyz="0 0 -0.012"/>
    </collision>
  </link>

  <joint name="left_finger1_joint1" type="revolute">
    <axis xyz="1 0 0"/>
    <parent link="left_finger1_root"/>
    <child link="left_finger1_joint1"/>
    <origin rpy="0 0 0" xyz="0 0 0"/>
    <limit effort="1000" lower="-1.5708" upper="0.0" velocity="1.0"/>
  </joint>

  <link name="left_finger1_joint2">
    <visual>
      <geometry>
        <mesh filename="package://flintrobot_description/meshes/flint_hand_finger_joint1.stl" scale="1 -1 1"/>
      </geometry>
    </visual>
    <collision>
      <geometry>
        <box size="0.02 0.02 0.035"/>
      </geometry>
      <origin rpy="0 0 0" xyz="0 0 -0.032"/>
    </collision>
  </link>

  <joint name="left_finger1_joint2" type="revolute">
    <axis xyz="1 0 0"/>
    <parent link="left_finger1_joint1"/>
    <child link="left_finger1_joint2"/>
    <origin rpy="0 0 0" xyz="0.000017 -0.0052 -0.030544"/>
    <limit effort="1000" lower="-1.5708" upper="0.0" velocity="1.0"/>
  </joint>

  <link name="left_finger2_root">
  </link>

  <joint name="left_wrists_to_finger2" type="fixed">
    <parent link="left_wrist"/>
    <child link="left_finger2_root"/>
    <origin rpy="0 0 0" xyz="0.021945 0.01231 -0.165475"/>
  </joint>

  <link name="left_finger2_joint1">
    <visual>
      <geometry>
        <mesh filename="package://flintrobot_description/meshes/flint_hand_finger_joint0.stl" scale="1 -1 1"/>
      </geometry>
    </visual>
    <collision>
      <geometry>
        <box size="0.02 0.02 0.035"/>
      </geometry>
      <origin rpy="0 0 0" xyz="0 0 -0.012"/>
    </collision>
  </link>

  <joint name="left_finger2_joint1" type="revolute">
    <axis xyz="1 0 0"/>
    <parent link="left_finger2_root"/>
    <child link="left_finger2_joint1"/>
    <origin rpy="0 0 0" xyz="0 0 0"/>
    <limit effort="1000" lower="-1.5708" upper="0.0" velocity="1.0"/>
  </joint>

  <link name="left_finger2_joint2">
    <visual>
      <geometry>
        <mesh filename="package://flintrobot_description/meshes/flint_hand_finger_joint1.stl" scale="1 -1 1"/>
      </geometry>
    </visual>
    <collision>
      <geometry>
        <box size="0.02 0.02 0.035"/>
      </geometry>
      <origin rpy="0 0 0" xyz="0 0 -0.032"/>
    </collision>
  </link>

  <joint name="left_finger2_joint2" type="revolute">
    <axis xyz="1 0 0"/>
    <parent link="left_finger2_joint1"/>
    <child link="left_finger2_joint2"/>
    <origin rpy="0 0 0" xyz="0.000017 -0.0052 -0.030544"/>
    <limit effort="1000" lower="-1.5708" upper="0.0" velocity="1.0"/>
  </joint>

  <link name="left_finger3_root">
  </link>

  <joint name="left_wrists_to_finger3" type="fixed">
    <parent link="left_wrist"/>
    <child link="left_finger3_root"/>
    <origin rpy="0 0.05236 0" xyz="-0.003263 0.01231 -0.165415"/>
  </joint>

  <link name="left_finger3_joint1">
    <visual>
      <geometry>
        <mesh filename="package://flintrobot_description/meshes/flint_hand_finger_joint0.stl" scale="1 -1 1"/>
      </geometry>
    </visual>
    <collision>
      <geometry>
        <box size="0.02 0.02 0.035"/>
      </geometry>
      <origin rpy="0 0 0" xyz="0 0 -0.012"/>
    </collision>
  </link>

  <joint name="left_finger3_joint1" type="revolute">
    <axis xyz="1 0 0"/>
    <parent link="left_finger3_root"/>
    <child link="left_finger3_joint1"/>
    <origin rpy="0 0 0" xyz="0 0 0"/>
    <limit effort="1000" lower="-1.5708" upper="0.0" velocity="1.0"/>
  </joint>

  <link name="left_finger3_joint2">
    <visual>
      <geometry>
        <mesh filename="package://flintrobot_description/meshes/flint_hand_finger_joint1.stl" scale="1 -1 1"/>
      </geometry>
    </visual>
    <collision>
      <geometry>
        <box size="0.02 0.02 0.035"/>
      </geometry>
      <origin rpy="0 0 0" xyz="0 0 -0.032"/>
    </collision>
  </link>

  <joint name="left_finger3_joint2" type="revolute">
    <axis xyz="1 0 0"/>
    <parent link="left_finger3_joint1"/>
    <child link="left_finger3_joint2"/>
    <origin rpy="0 0 0" xyz="0.000017 -0.0052 -0.030544"/>
    <limit effort="1000" lower="-1.5708" upper="0.0" velocity="1.0"/>
  </joint>

  <link name="left_finger4_root">
  </link>

  <joint name="left_wrists_to_finger4" type="fixed">
    <parent link="left_wrist"/>
    <child link="left_finger4_root"/>
    <origin rpy="0 0.10472 0" xyz="-0.028492 0.01231 -0.162315"/>
  </joint>

  <link name="left_finger4_joint1">
    <visual>
      <geometry>
        <mesh filename="package://flintrobot_description/meshes/flint_hand_finger_joint0.stl" scale="1 -1 1"/>
      </geometry>
    </visual>
    <collision>
      <geometry>
        <box size="0.02 0.02 0.035"/>
      </geometry>
      <origin rpy="0 0 0" xyz="0 0 -0.012"/>
    </collision>
  </link>

  <joint name="left_finger4_joint1" type="revolute">
    <axis xyz="1 0 0"/>
    <parent link="left_finger4_root"/>
    <child link="left_finger4_joint1"/>
    <origin rpy="0 0 0" xyz="0 0 0"/>
    <limit effort="1000" lower="-1.5708" upper="0.0" velocity="1.0"/>
  </joint>

  <link name="left_finger4_joint2">
    <visual>
      <geometry>
        <mesh filename="package://flintrobot_description/meshes/flint_hand_finger_joint1.stl" scale="1 -1 1"/>
      </geometry>
    </visual>
    <collision>
      <geometry>
        <box size="0.02 0.02 0.035"/>
      </geometry>
      <origin rpy="0 0 0" xyz="0 0 -0.032"/>
    </collision>
  </link>

  <joint name="left_finger4_joint2" type="revolute">
    <axis xyz="1 0 0"/>
    <parent link="left_finger4_joint1"/>
    <child link="left_finger4_joint2"/>
    <origin rpy="0 0 0" xyz="0.000017 -0.0052 -0.030544"/>
    <limit effort="1000" lower="-1.5708" upper="0.0" velocity="1.0"/>
  </joint>

  <mujoco>
    <compiler balanceinertia="true" discardvisual="false" meshdir="../meshes"/>
  </mujoco>
</robot>
